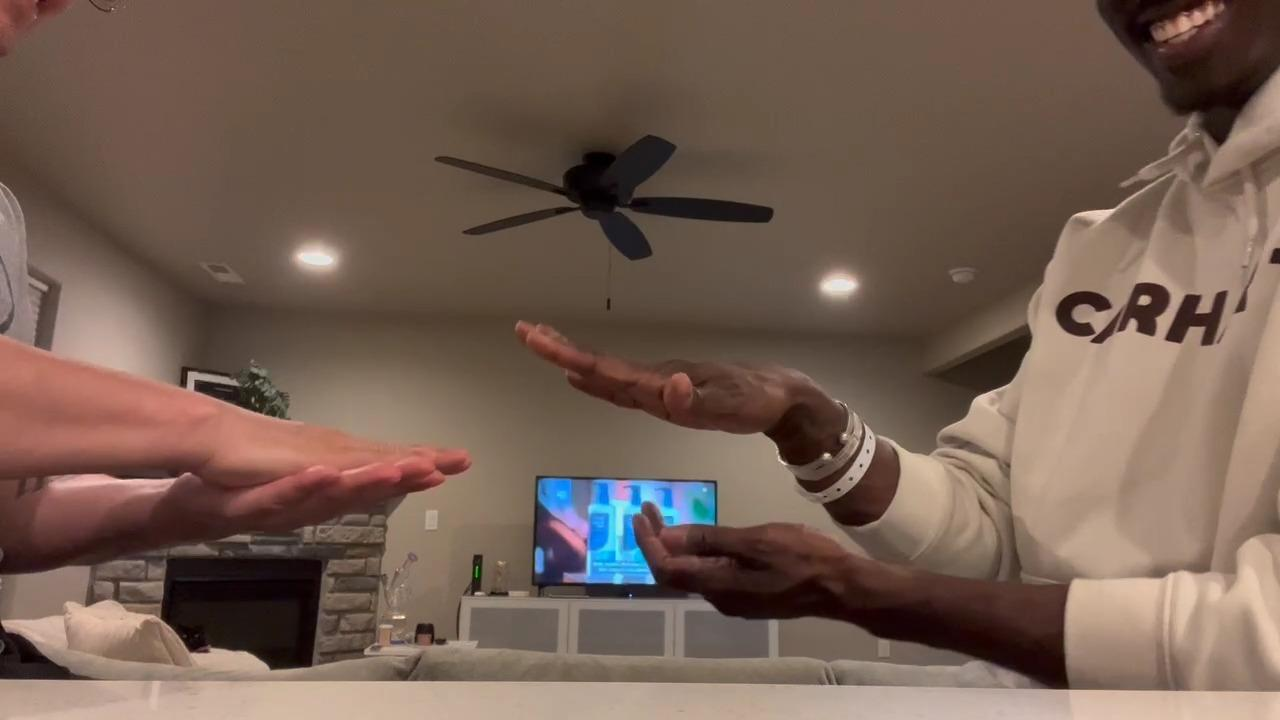Paper: (517, 315, 805, 436), (207, 408, 440, 478)
